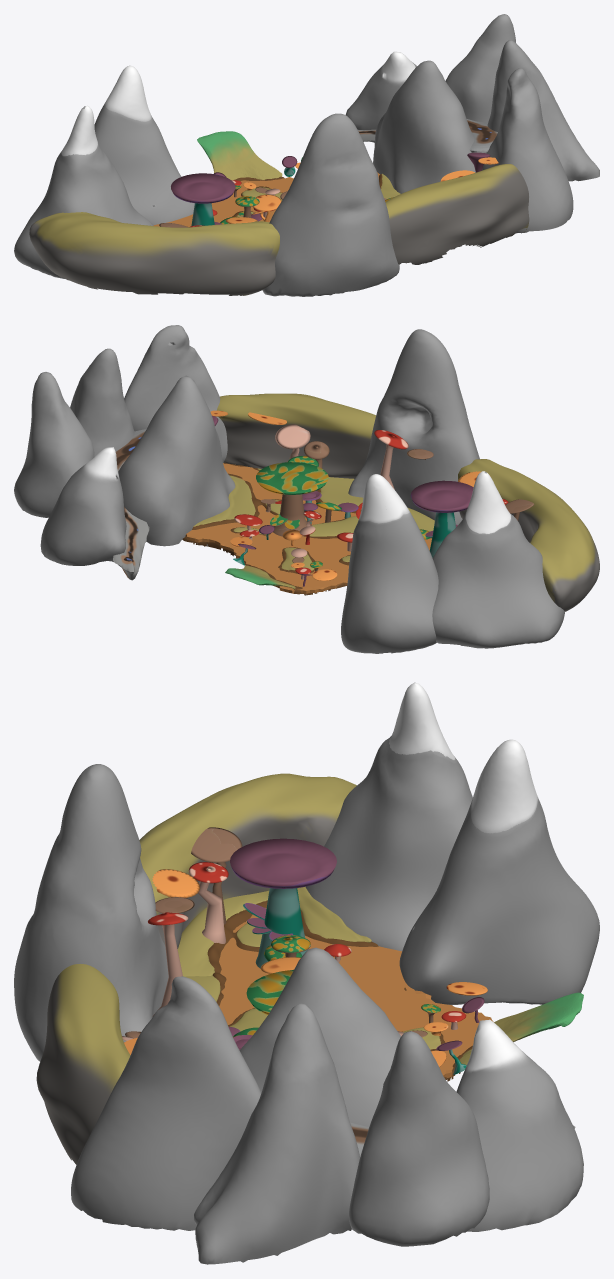
File: SecondRegion.glb
3 views of the same model, one above another, from view 1: azimuth 30°, elevation 25°; view 2: azimuth 150°, elevation 25°; view 3: azimuth 270°, elevation 25° (orthographic). The views are drawn at different scales.
Parts seen in each view (by area): view 1: CenterMountain, LeftRidge, RightRidge, RMountain1, LMountain1, LMountain2, RMountain5, RMountain4, RMountain3, RMountain2, BogRamp, Cylinder.008 (+3 smaller); view 2: LMountain2, LMountain1, RMountain1, CenterMountain, RightRidge, LeftRidge, RMountain2, RMountain3, BogWater, RMountain5, RMountain4, Cylinder.016 (+10 smaller); view 3: LMountain1, RMountain5, RMountain4, CenterMountain, LMountain2, RMountain3, RMountain2, LeftRidge, RightRidge, RMountain1, BogWater, Cylinder.008 (+9 smaller).
Boxes of the visible parts, x1,y1,x2,y2 form: CenterMountain: (262,113,399,296); LeftRidge: (29,212,279,295); RightRidge: (385,164,529,264); RMountain1: (373,60,475,193); LMountain1: (94,65,194,225); LMountain2: (14,105,153,278); RMountain5: (482,68,573,233); RMountain4: (487,40,599,181); RMountain3: (445,14,515,122); RMountain2: (345,51,417,142); BogRamp: (197,131,282,180); Cylinder.008: (171,173,235,226); LMountain2: (432,471,564,648); LMountain1: (341,474,438,653); RMountain1: (118,375,235,546); CenterMountain: (348,329,479,524); RightRidge: (217,393,375,478); LeftRidge: (458,459,599,611); RMountain2: (40,447,126,565); RMountain3: (14,372,94,517); BogWater: (185,463,431,593); RMountain5: (124,325,227,462); RMountain4: (70,348,134,456); Cylinder.016: (256,462,328,536); LMountain1: (399,739,599,1005); RMountain5: (71,976,261,1230); RMountain4: (194,1003,359,1264); CenterMountain: (14,764,168,1061); LMountain2: (305,682,472,951); RMountain3: (349,1031,489,1246); RMountain2: (456,1019,583,1231); LeftRidge: (139,773,356,948); RightRidge: (36,964,130,1164); RMountain1: (239,947,400,1126); BogWater: (219,907,493,1077); Cylinder.008: (230,838,336,968).
Size of what is drawn, in the model's own units: 409 by 133 by 241.
16 materials, 16 textured.
